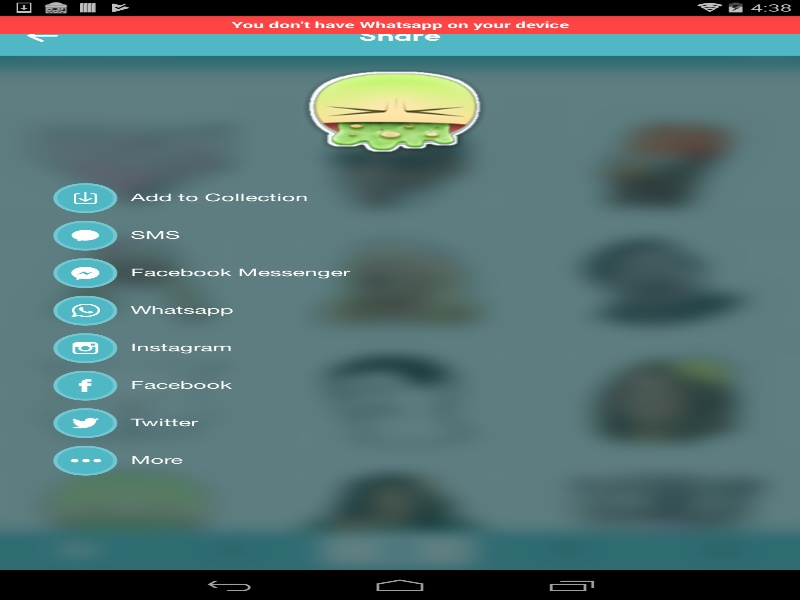Button: (0, 18, 74, 53), (736, 15, 800, 55)
Input: (21, 15, 736, 55)
